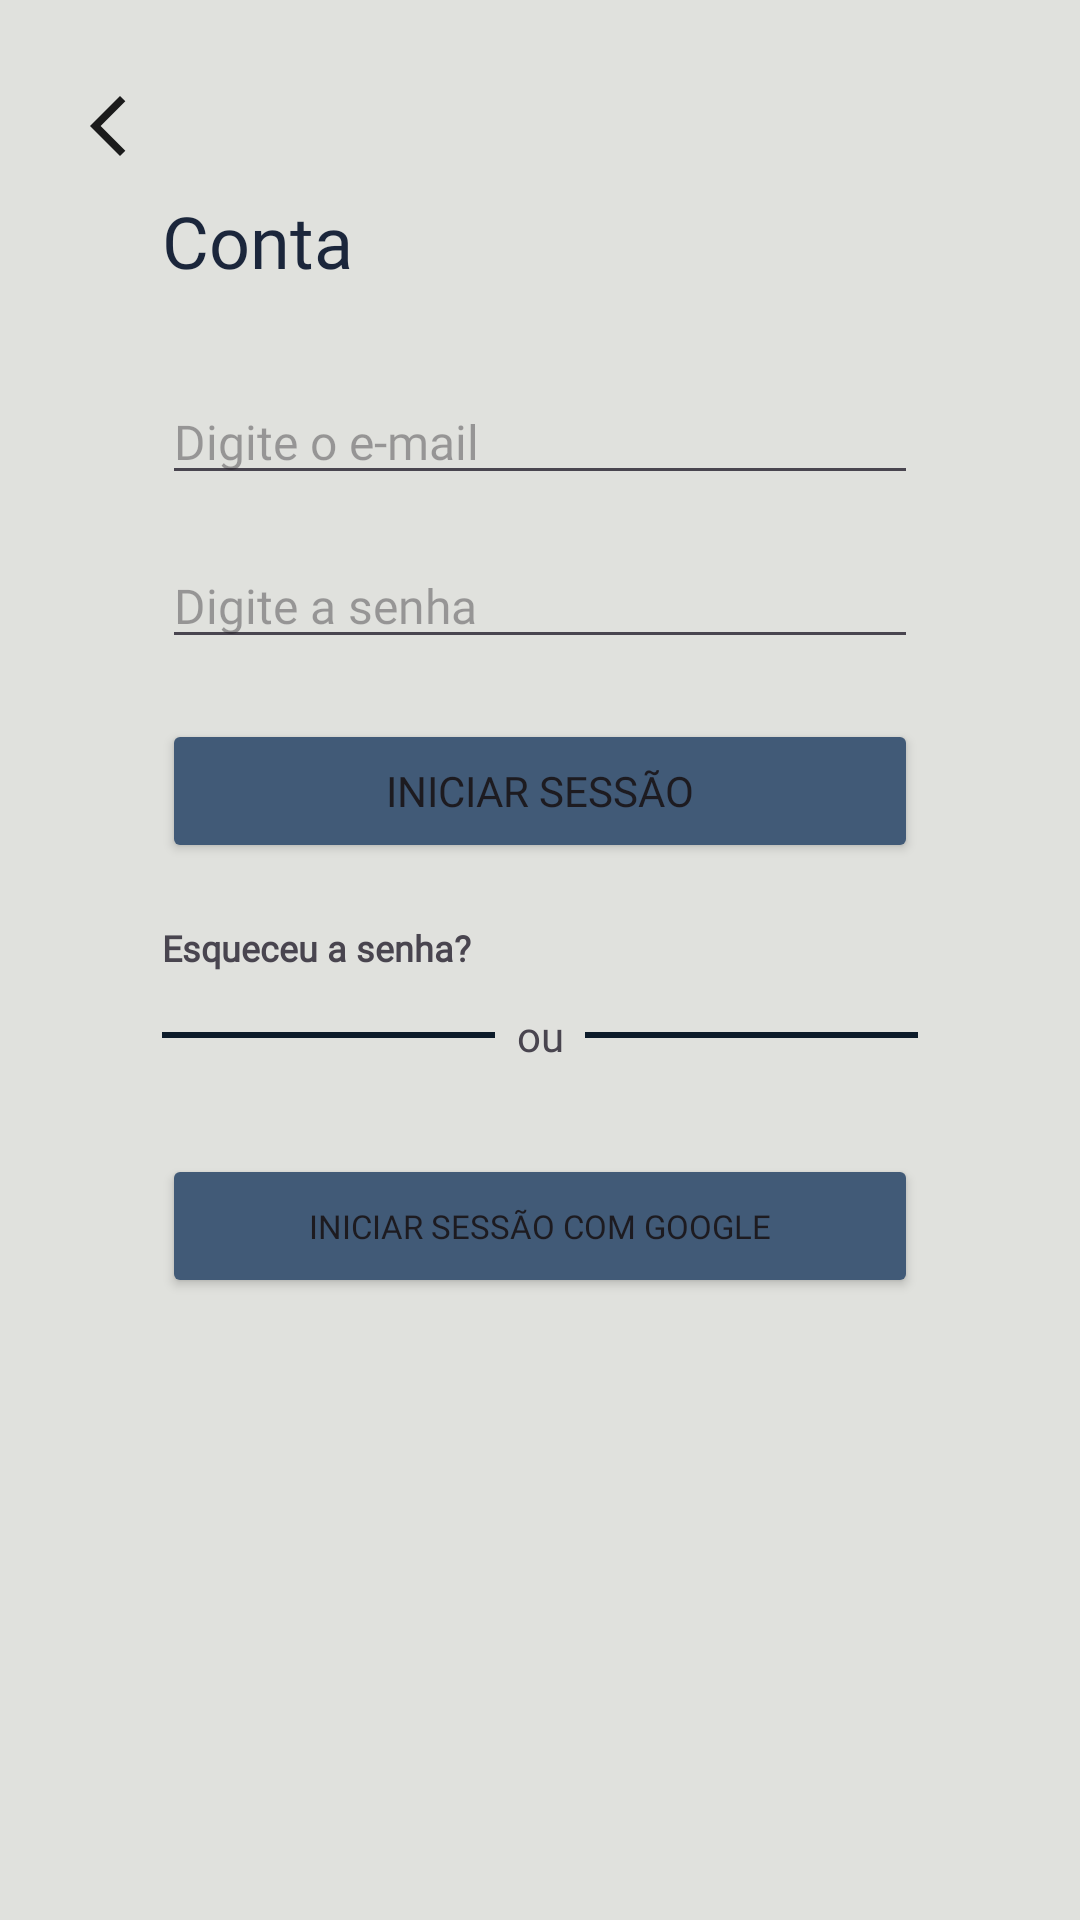

Point at icon controls on the screen. Image size 1080*1920, points as (x,y).
Voltar: (107,126)
